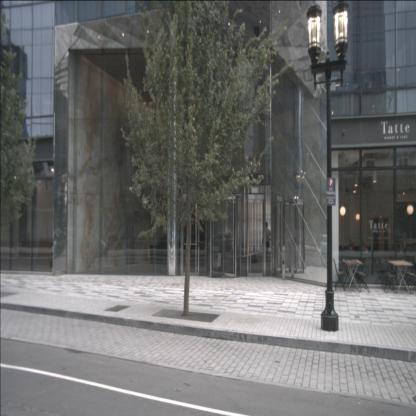human-pedestrian-adult: (262, 221, 272, 263)
vehicle-car: (62, 226, 108, 258), (211, 232, 238, 252)
